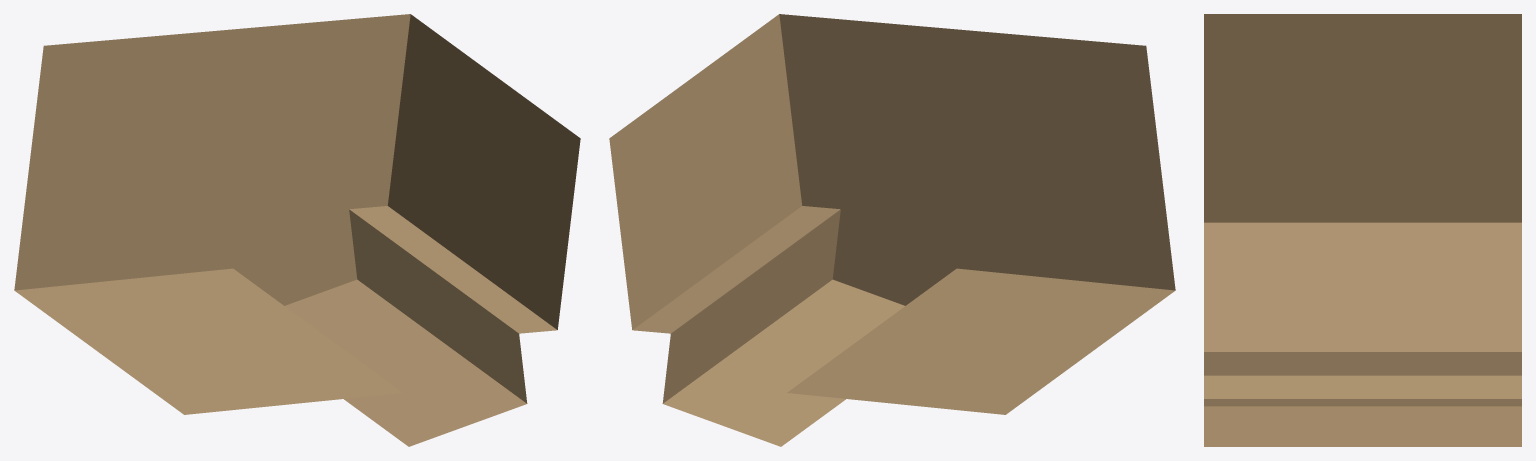
The picture shows the model from 3 angles, left to right: view 1: azimuth 30°, elevation 25°; view 2: azimuth 150°, elevation 25°; view 3: azimuth 270°, elevation 25°; orthographic projection. The views are drawn at different scales.
Parts seen in each view (by area): view 1: 0_1_0_0_2_2_2_0_3; view 2: 0_1_0_0_2_2_2_0_3; view 3: 0_1_0_0_2_2_2_0_3.
Part boxes in pixels (box(x1,y1,x2,y2)): 0_1_0_0_2_2_2_0_3: box(14, 14, 580, 446); 0_1_0_0_2_2_2_0_3: box(609, 14, 1175, 446); 0_1_0_0_2_2_2_0_3: box(1204, 14, 1521, 446).
Bounding box in the file's own units: 28.27 × 22.1 × 21.
